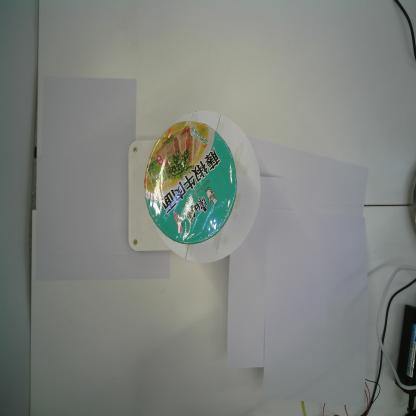Instant Noodles: (142, 118, 240, 246)
